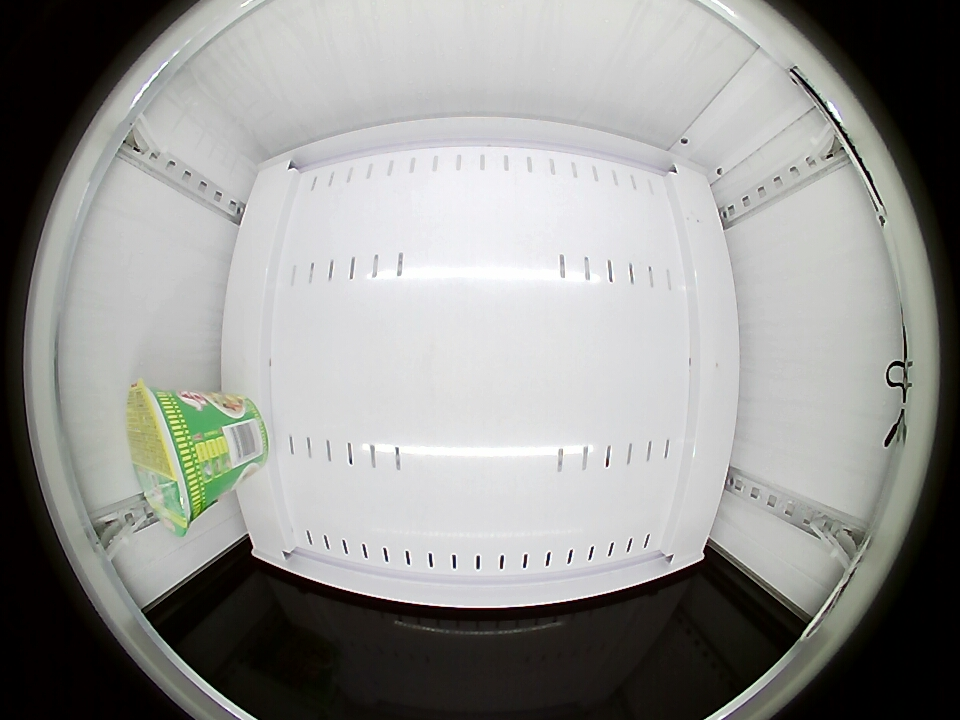heweidao2: (127, 382, 211, 534)
